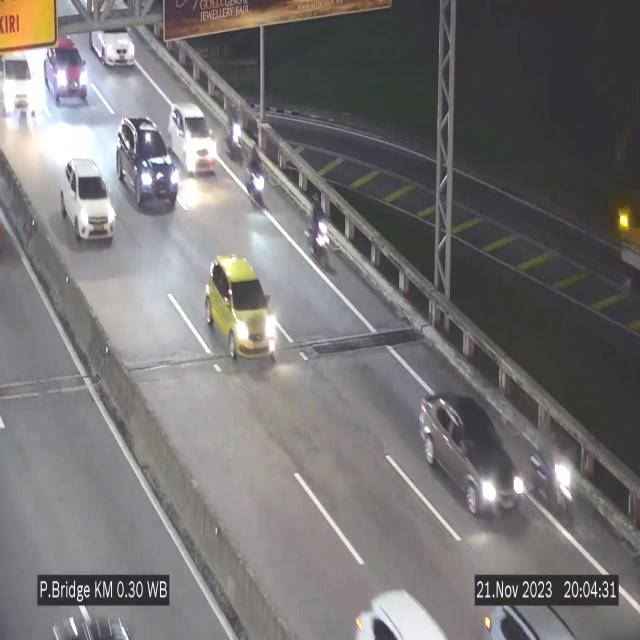Car: (421, 397, 527, 527), (205, 255, 277, 361), (346, 575, 452, 640), (118, 117, 178, 218), (61, 157, 115, 243), (42, 29, 92, 115), (168, 103, 216, 172), (0, 46, 40, 124), (91, 8, 136, 68)
Motorcycle: (533, 428, 579, 532), (307, 190, 330, 270), (224, 92, 242, 166), (246, 144, 265, 208)
